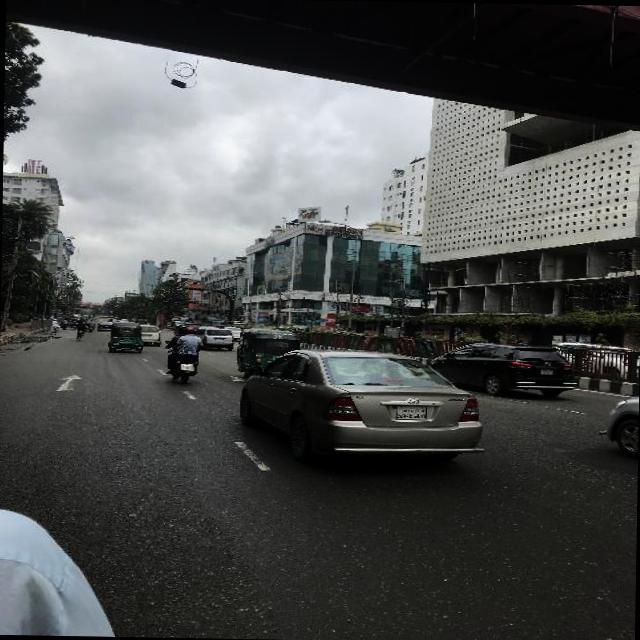bus: (202, 316, 225, 325)
car: (234, 374, 486, 466), (426, 341, 576, 396), (192, 326, 235, 352), (140, 323, 160, 344), (95, 319, 109, 330), (172, 321, 180, 326)
motorcycle: (234, 328, 278, 372), (165, 351, 202, 385), (105, 320, 142, 353), (68, 316, 78, 328), (85, 324, 95, 331)
truck: (95, 314, 106, 320)
